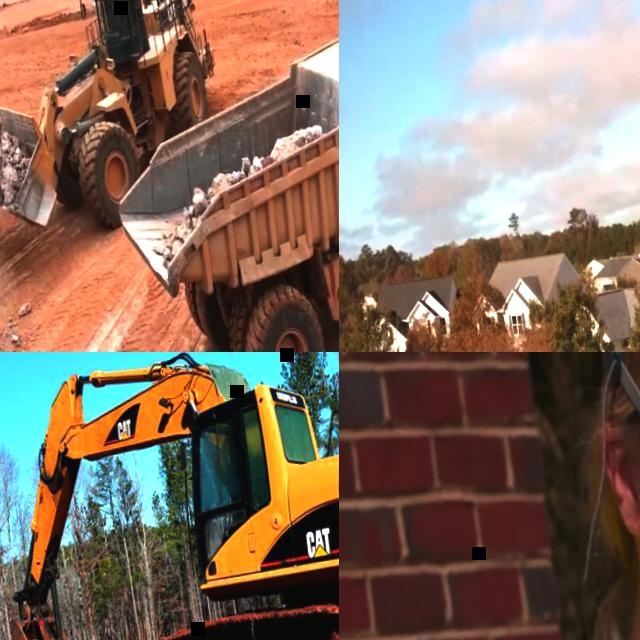Person: (372, 352, 640, 640)
machinery: (0, 352, 339, 640), (98, 14, 339, 352), (0, 0, 236, 254)
